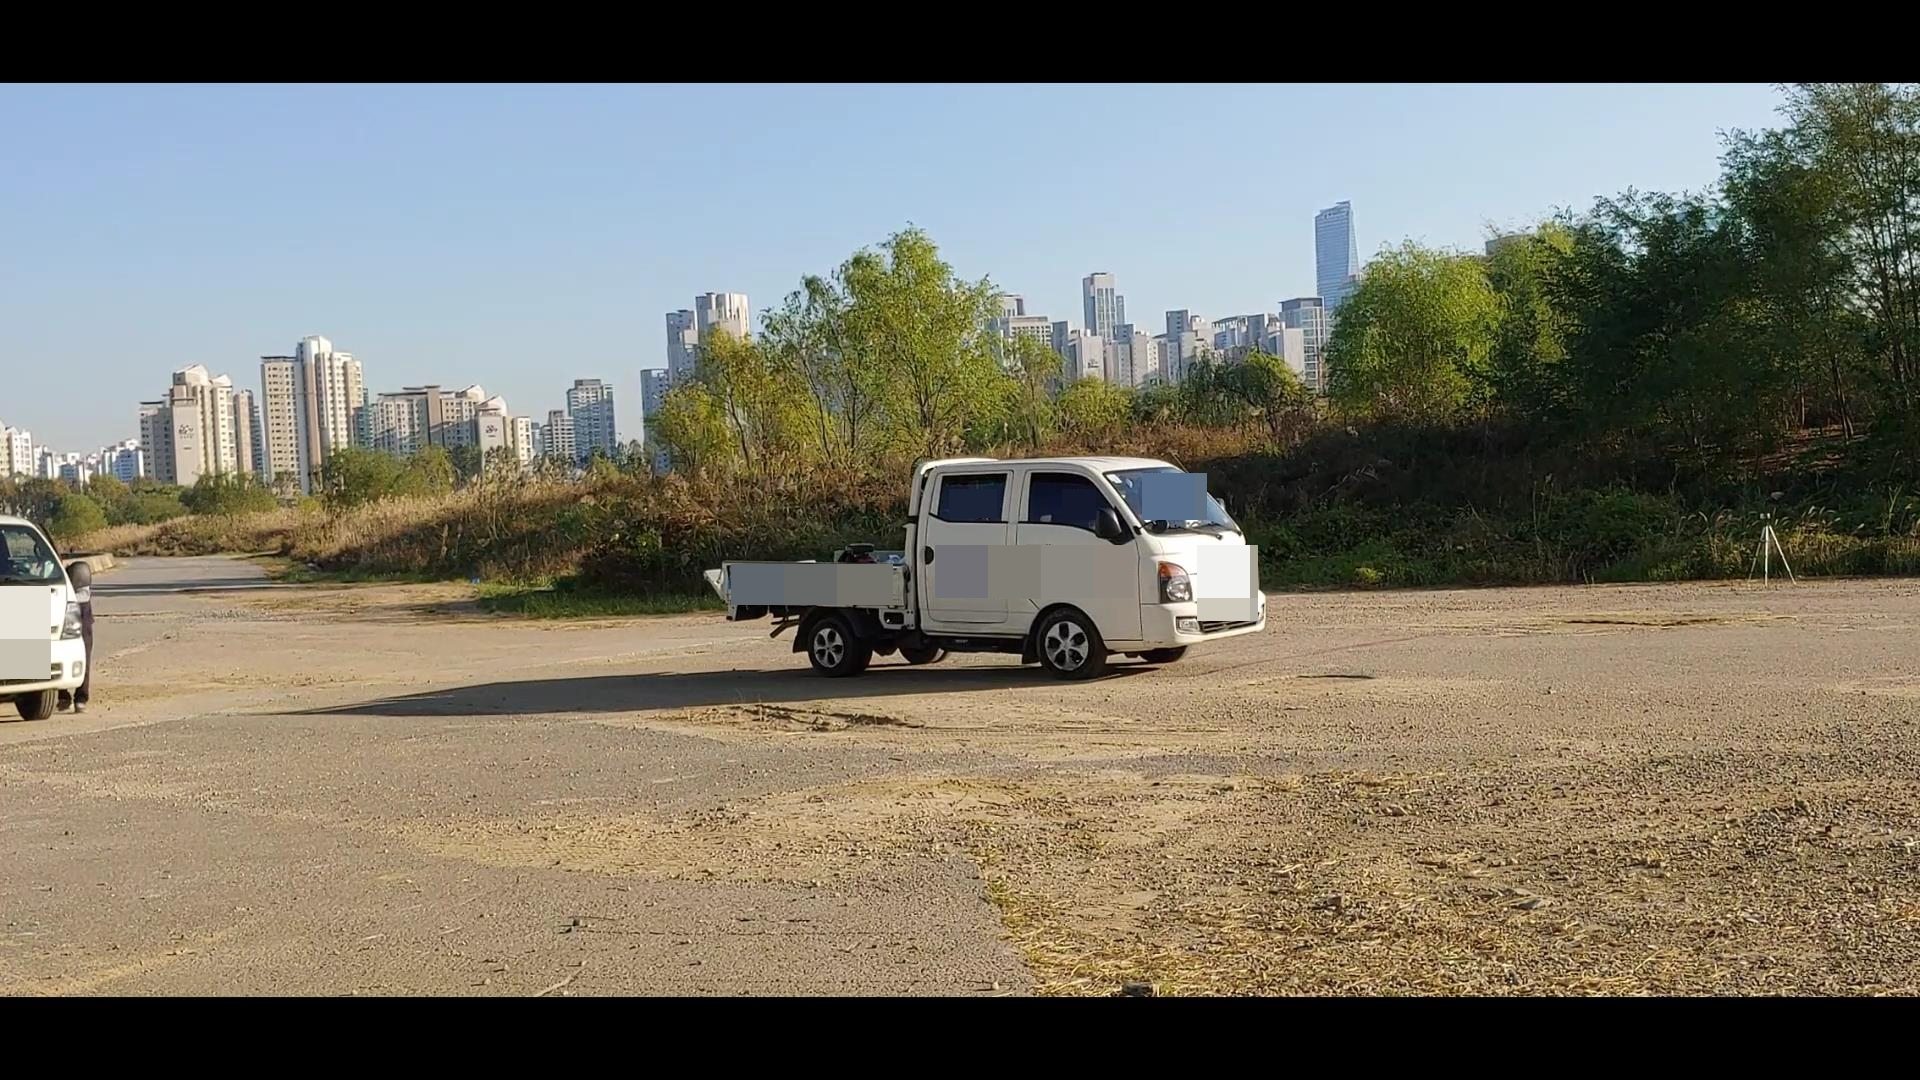불법차량: (703, 456, 1266, 680)
